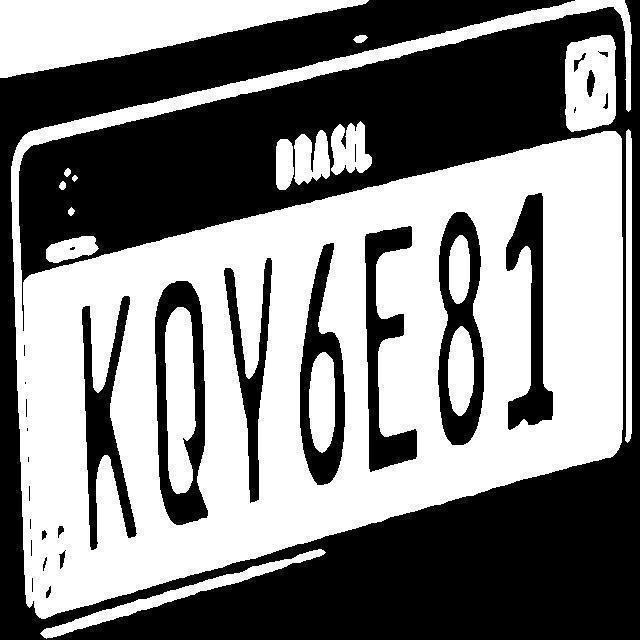1: (498, 186, 564, 428)
6: (294, 234, 358, 491)
8: (427, 207, 498, 448)
e: (354, 216, 430, 474)
k: (76, 290, 143, 550)
q: (144, 278, 216, 536)
y: (217, 240, 290, 508)
